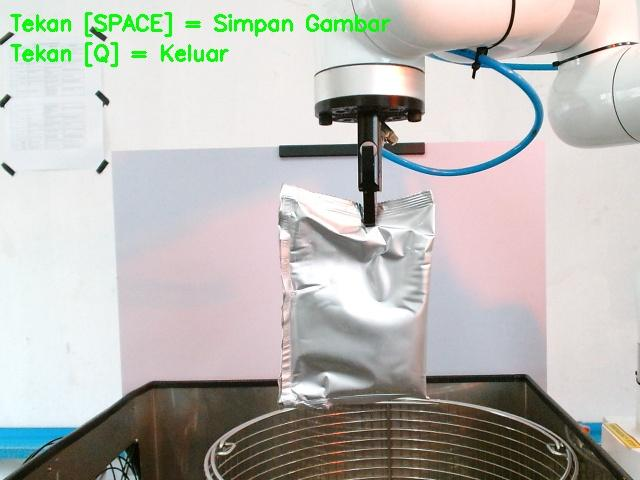retort-pouch: (273, 183, 438, 408)
